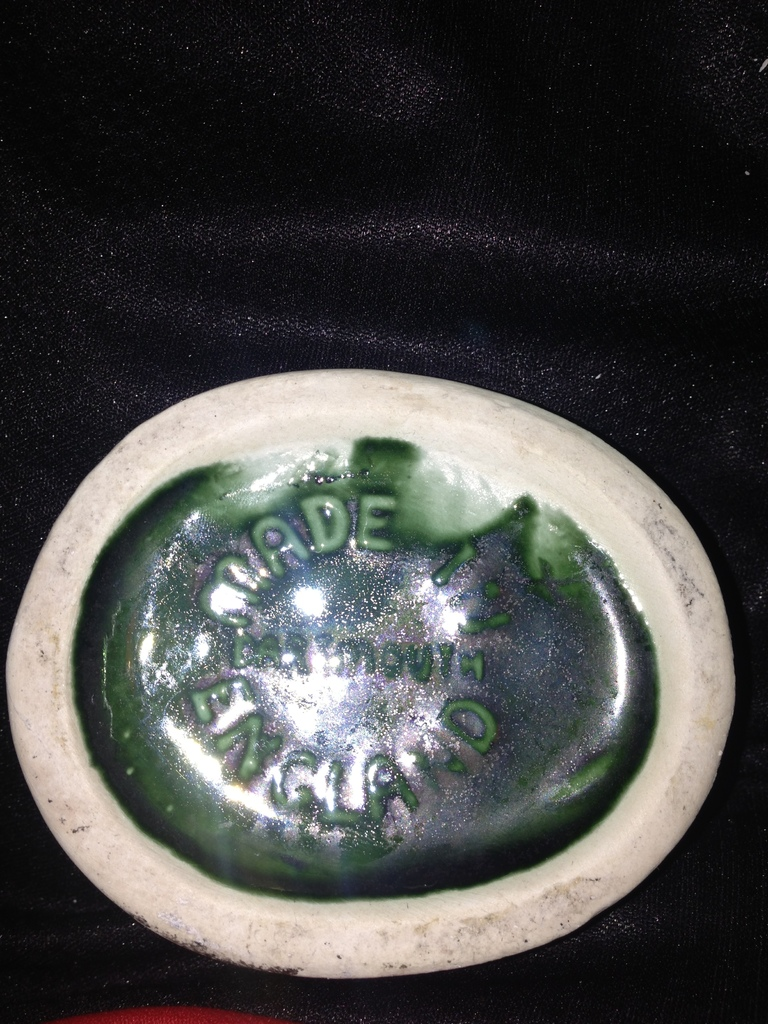plate: (5, 369, 735, 978)
